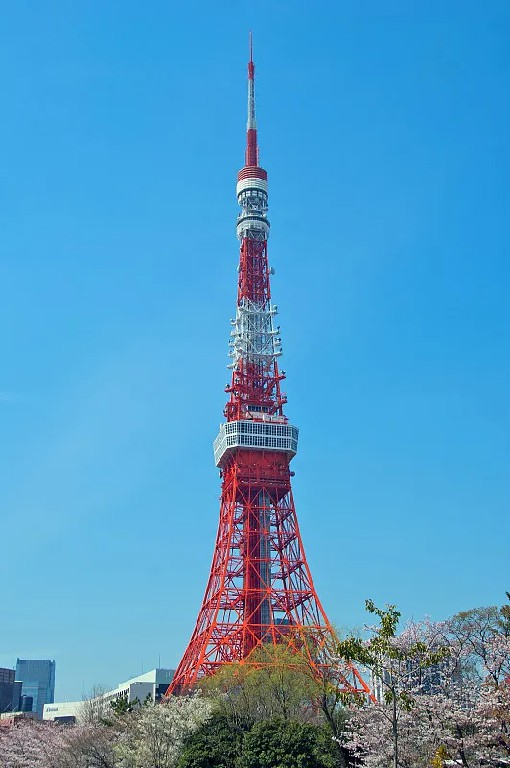Tokyo: (160, 26, 380, 709)
